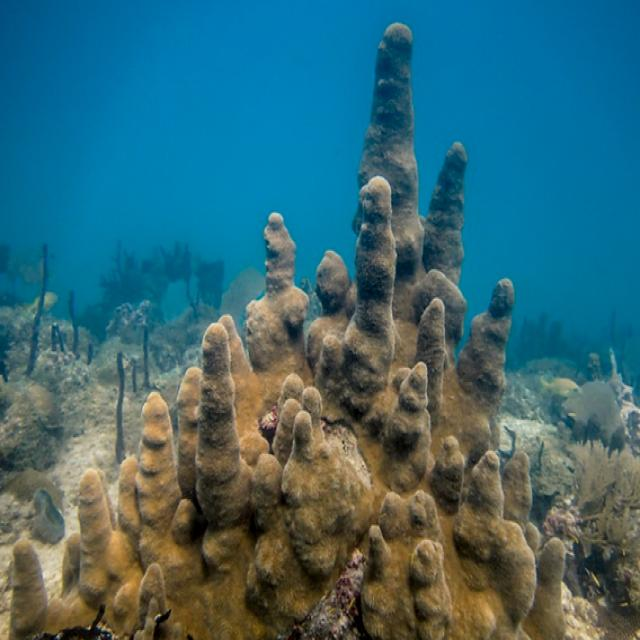Coral: (9, 21, 567, 640)
